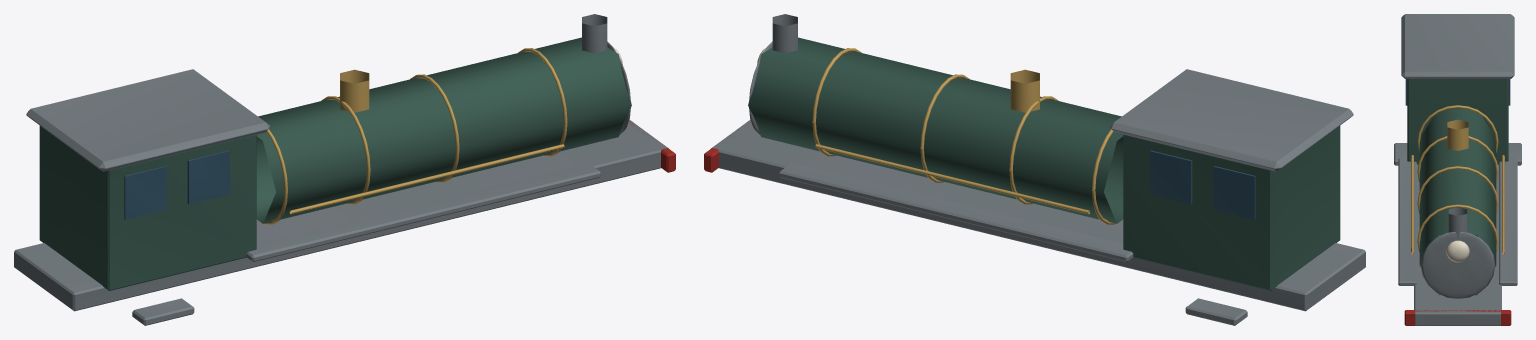
File: locomotive.glb
3 views of the same model, side by side, from view 1: azimuth 30°, elevation 25°; view 2: azimuth 150°, elevation 25°; view 3: azimuth 270°, elevation 25° (orthographic). The views are drawn at different scales.
Parts seen in each view (by area): view 1: boiler, locomotive chassis, boiler band, cab window; view 2: boiler, locomotive chassis, boiler band, cab window; view 3: locomotive chassis, boiler, boiler band, buffer beam, head lamp, cab window.
Boxes of the visible parts, box(x1,y1,x2,y2) form: boiler: box(39, 37, 631, 290); locomotive chassis: box(14, 14, 668, 325); boiler band: box(264, 48, 567, 224); cab window: box(124, 150, 229, 219); boiler: box(748, 37, 1340, 290); locomotive chassis: box(711, 14, 1365, 325); boiler band: box(812, 48, 1115, 224); cab window: box(1150, 150, 1255, 219); locomotive chassis: box(1394, 14, 1521, 325); boiler: box(1407, 79, 1508, 295); boiler band: box(1411, 105, 1504, 254); buffer beam: box(1404, 310, 1511, 325); head lamp: box(1446, 240, 1469, 262); cab window: box(1405, 79, 1510, 105).
Size of the model in its own units: 9.4 by 2.52 by 2.39.
